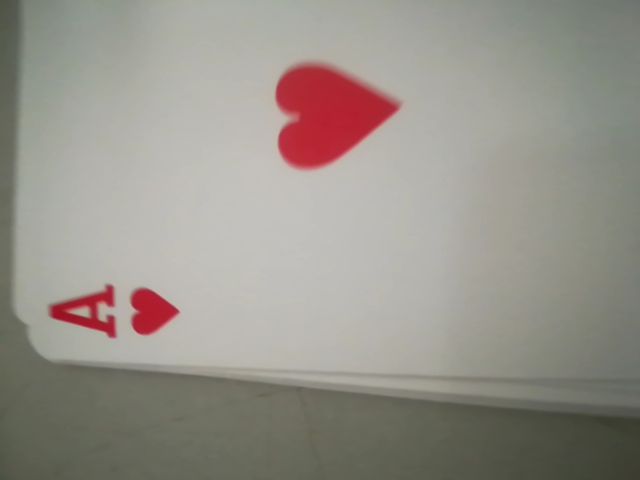hx a: (36, 264, 192, 355)
